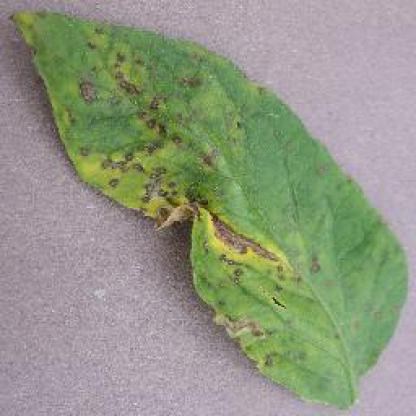bad leaf: (112, 147, 272, 285), (92, 27, 180, 146), (208, 286, 297, 368), (69, 107, 125, 191), (292, 240, 337, 294), (338, 307, 402, 336), (179, 70, 211, 97), (219, 120, 257, 133), (23, 39, 44, 60)
